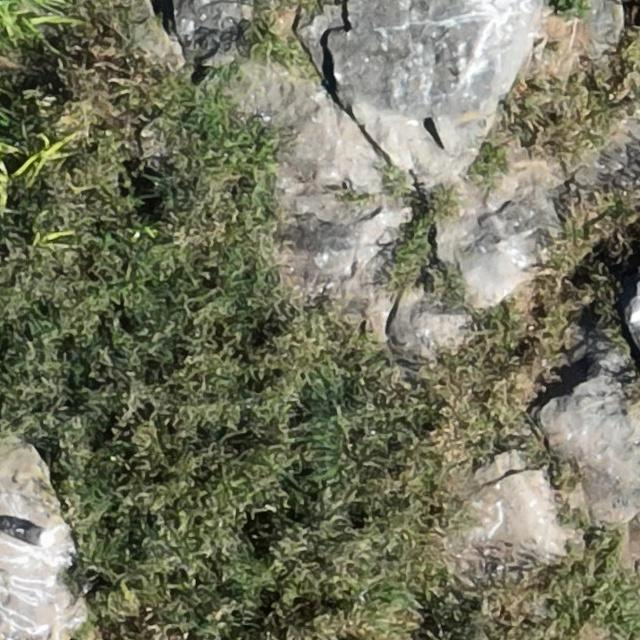umineko: (12, 524, 46, 544)
